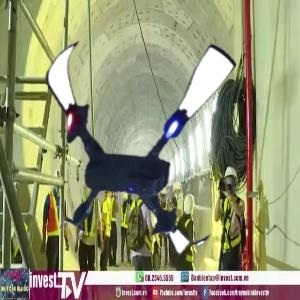drone: (11, 14, 257, 260)
